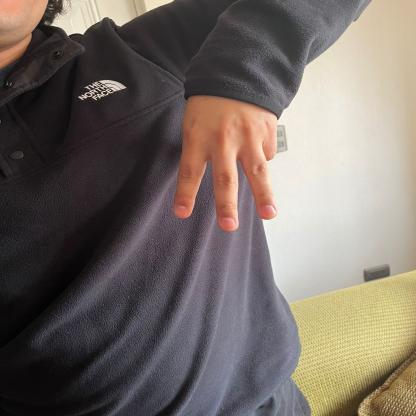M: (170, 63, 288, 232)
